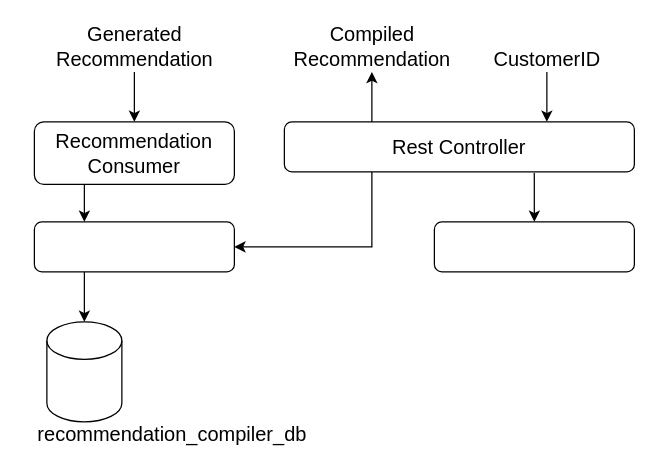
Some shapes in this 656 by 468 pixel diagram are drawn without their labels. The box of each missing label's shape, as (x1, y1, x2, y2) in pixels:
Database Handler: (33, 221, 234, 272)
Model Compiler: (433, 221, 634, 272)
